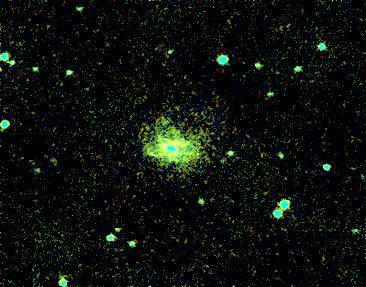star: (191, 165, 221, 195)
